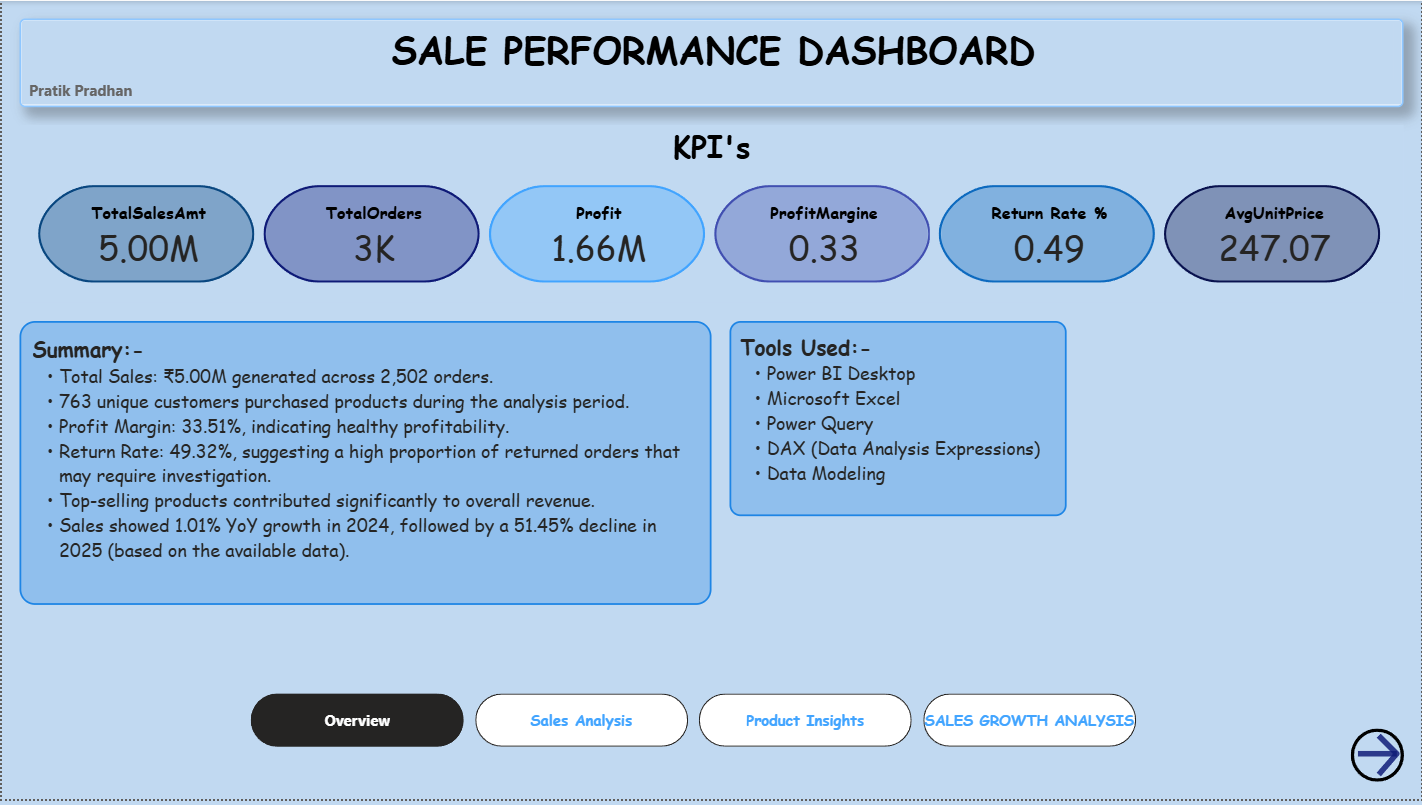

What the dashboard file says about the page in this screenshot:
{"tool":"powerbi","page":{"name":"Overview","canvas":[1280,720],"ordinal":0},"visuals":[{"type":"textbox","title":"SALE PERFORMANCE DASHBOARD","box":[16,16,1248,80],"z":0},{"type":"cardVisual","title":"KPI''s","fields":{"Data":["DimProduct.TotalSalesAmt","DimProduct.TotalOrders","FactSales.Profit","FactSales.ProfitMargine","DimProduct.Return Rate %","DimProduct.AvgUnitPrice"]},"box":[16,112,1248,160],"z":1000},{"type":"textbox","box":[16,288,624,256],"z":2000},{"type":"textbox","box":[656,288,304,176],"z":3000},{"type":"actionButton","box":[1216,656,48,48],"z":4000},{"type":"pageNavigator","box":[224,624,800,48],"z":5000}]}

Visuals, with their boxes in screenshot pixels (x1, y1, x2, y2), scaled from the page's 1280x720 canvas onto the 1422x805 screenshot:
"SALE PERFORMANCE DASHBOARD" textbox: (18, 18, 1404, 107)
"KPI''s" cardVisual: (18, 125, 1404, 304)
textbox: (18, 322, 711, 608)
textbox: (729, 322, 1066, 519)
actionButton: (1351, 733, 1404, 787)
pageNavigator: (249, 698, 1138, 751)
